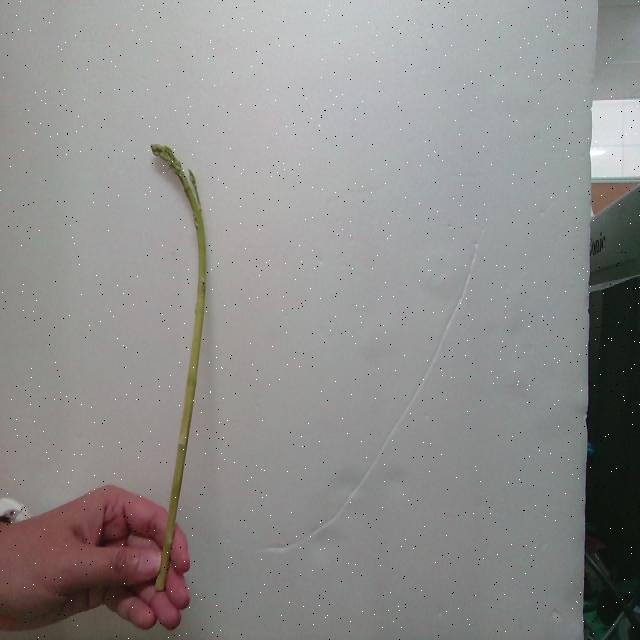aspargus: (154, 146, 211, 560)
